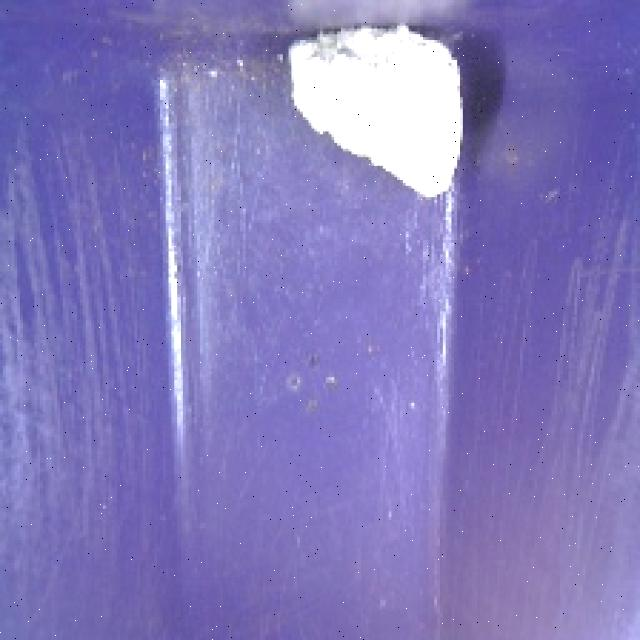brick: (270, 15, 476, 203)
